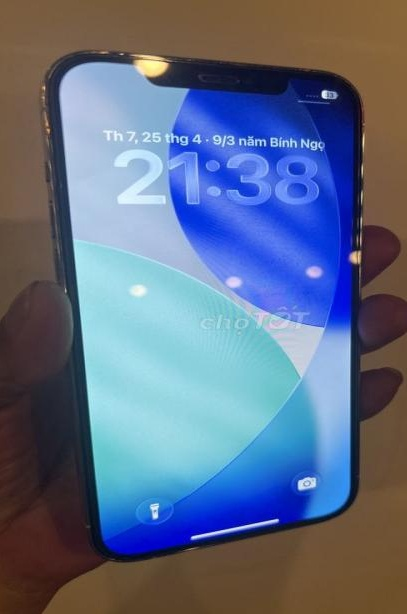scratch: (145, 47, 356, 92)
